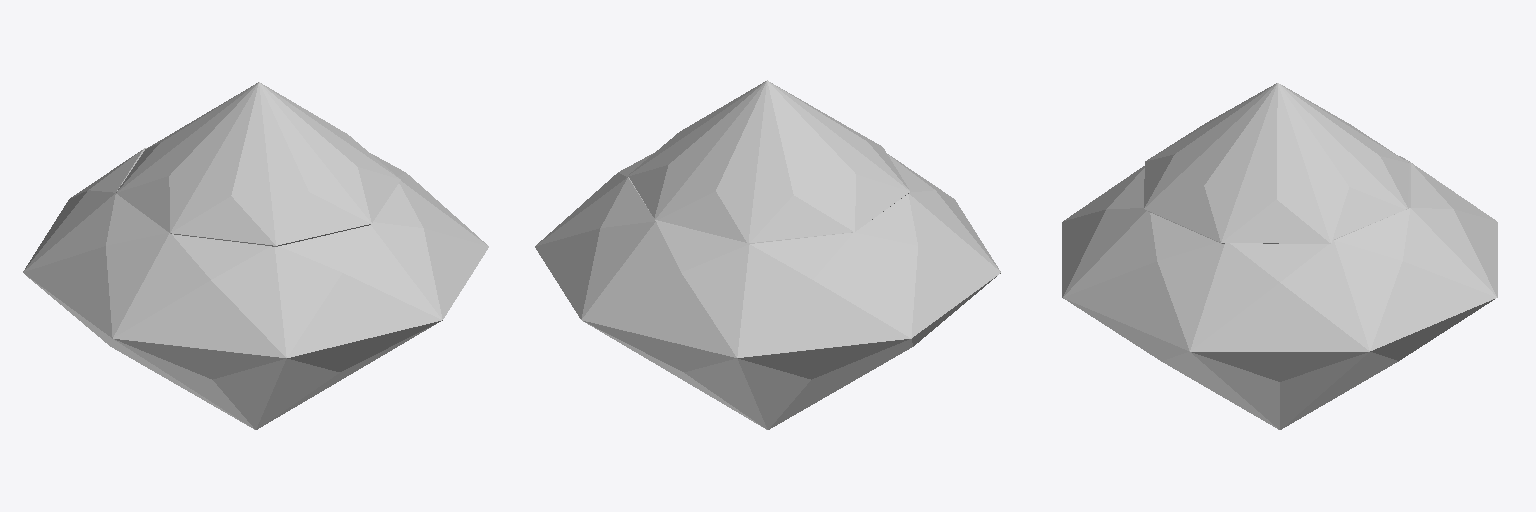
The model's file is gems.obj.
3 views of the same model, side by side, from view 1: azimuth 30°, elevation 25°; view 2: azimuth 150°, elevation 25°; view 3: azimuth 270°, elevation 25° (orthographic).
Parts seen in each view (by area): view 1: Black_Gem.013, Black_Gem.001; view 2: Black_Gem.013, Black_Gem.001; view 3: Black_Gem.013, Black_Gem.001.
Boxes of the visible parts, x1,y1,x2,y2 form: Black_Gem.013: [23, 148, 488, 429]; Black_Gem.001: [116, 82, 400, 246]; Black_Gem.013: [535, 153, 1000, 429]; Black_Gem.001: [626, 80, 909, 242]; Black_Gem.013: [1062, 156, 1497, 429]; Black_Gem.001: [1144, 83, 1408, 243].
Bounding box in the file's own units: 1.85 × 1.63 × 1.85.